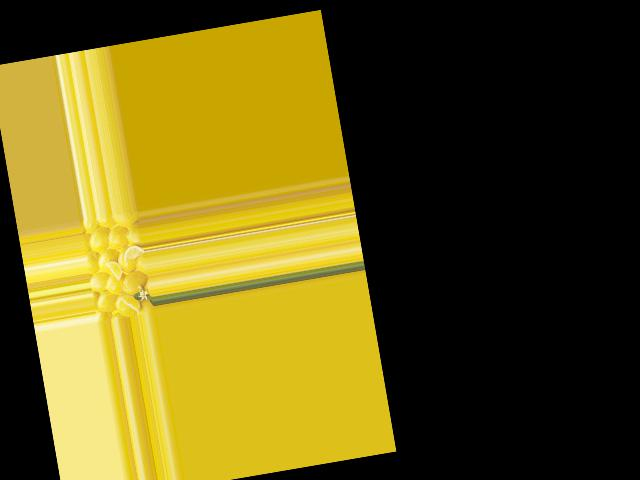lemon: (120, 222, 143, 248)
